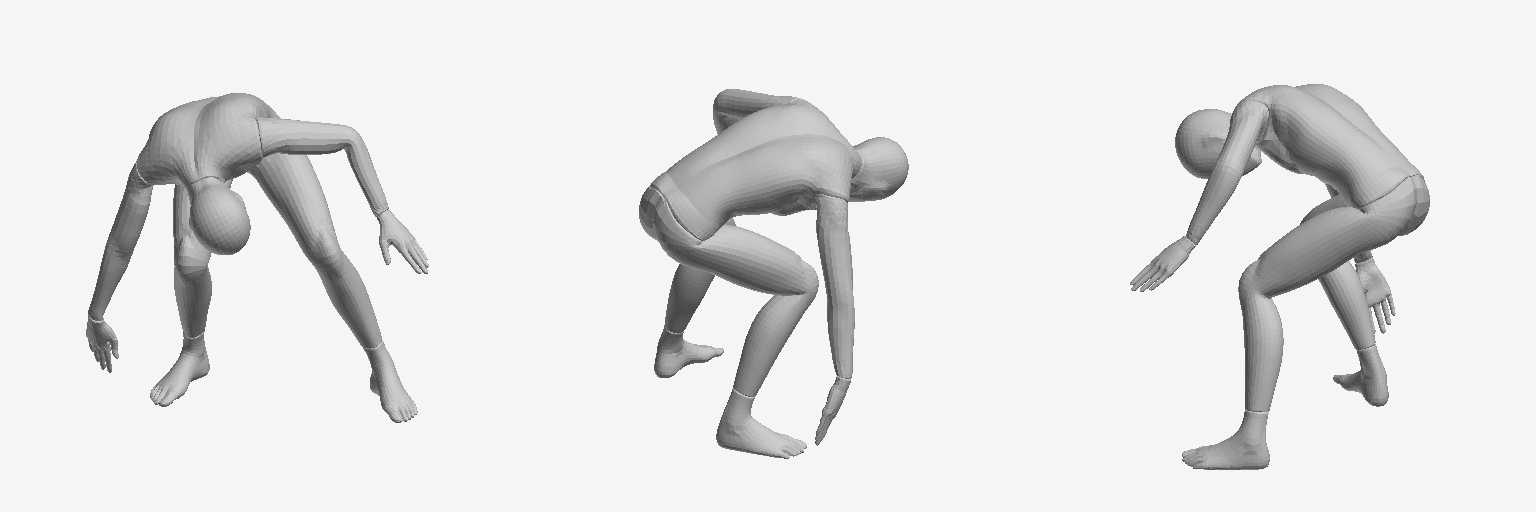
Rendered from standup66.obj.
3 renders of one model, left to right at view 1: azimuth 30°, elevation 25°; view 2: azimuth 150°, elevation 25°; view 3: azimuth 270°, elevation 25°, orthographic.
Parts seen in each view (by area): view 1: Ch36; view 2: Ch36; view 3: Ch36.
Part boxes in pixels (x1,y1,x2,y2): Ch36: (86,93,428,422); Ch36: (639,89,908,458); Ch36: (1130,84,1429,469).
Size of the model in its own units: 0.8127 by 0.9711 by 0.8468.